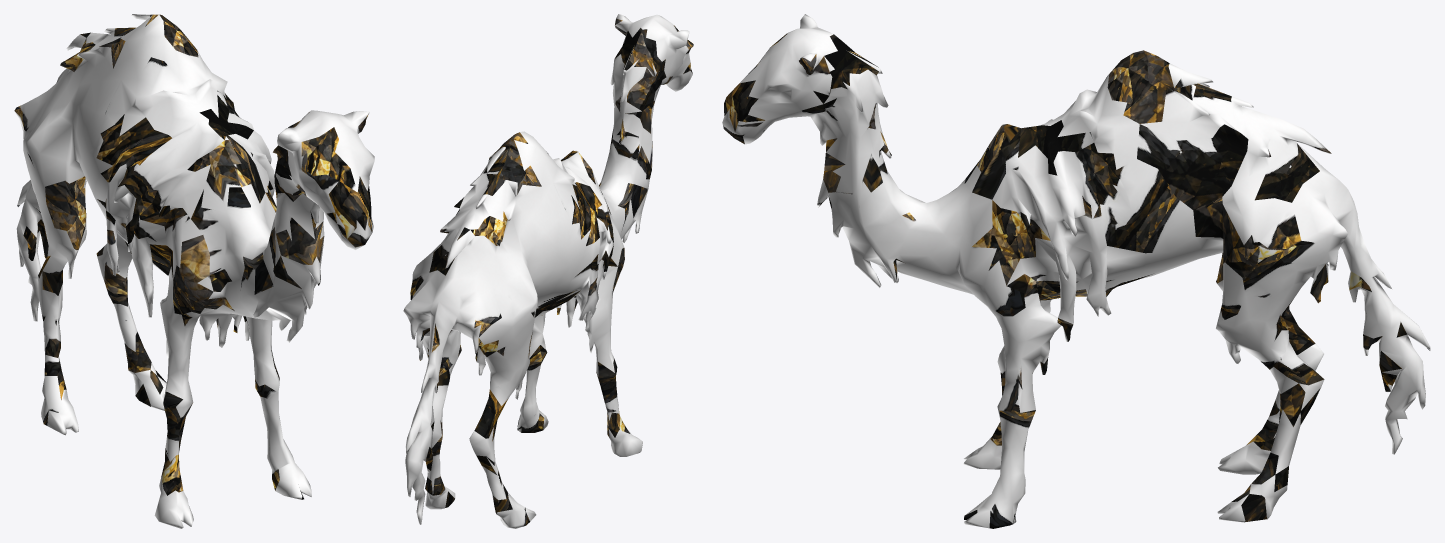
Rendered from dust_camel_gold_5k.fbx.
The picture shows the model from 3 angles, left to right: view 1: azimuth 30°, elevation 25°; view 2: azimuth 150°, elevation 25°; view 3: azimuth 270°, elevation 25°; orthographic projection. The views are drawn at different scales.
Parts seen in each view (by area): view 1: dust_camel_gold_decimated; view 2: dust_camel_gold_decimated; view 3: dust_camel_gold_decimated.
Part boxes in pixels (box(x1,y1,x2,y2)): dust_camel_gold_decimated: box(14, 14, 374, 528); dust_camel_gold_decimated: box(403, 14, 693, 528); dust_camel_gold_decimated: box(722, 14, 1430, 528).
Size of the model in its own units: 0.4971 by 1.37 by 1.9.
